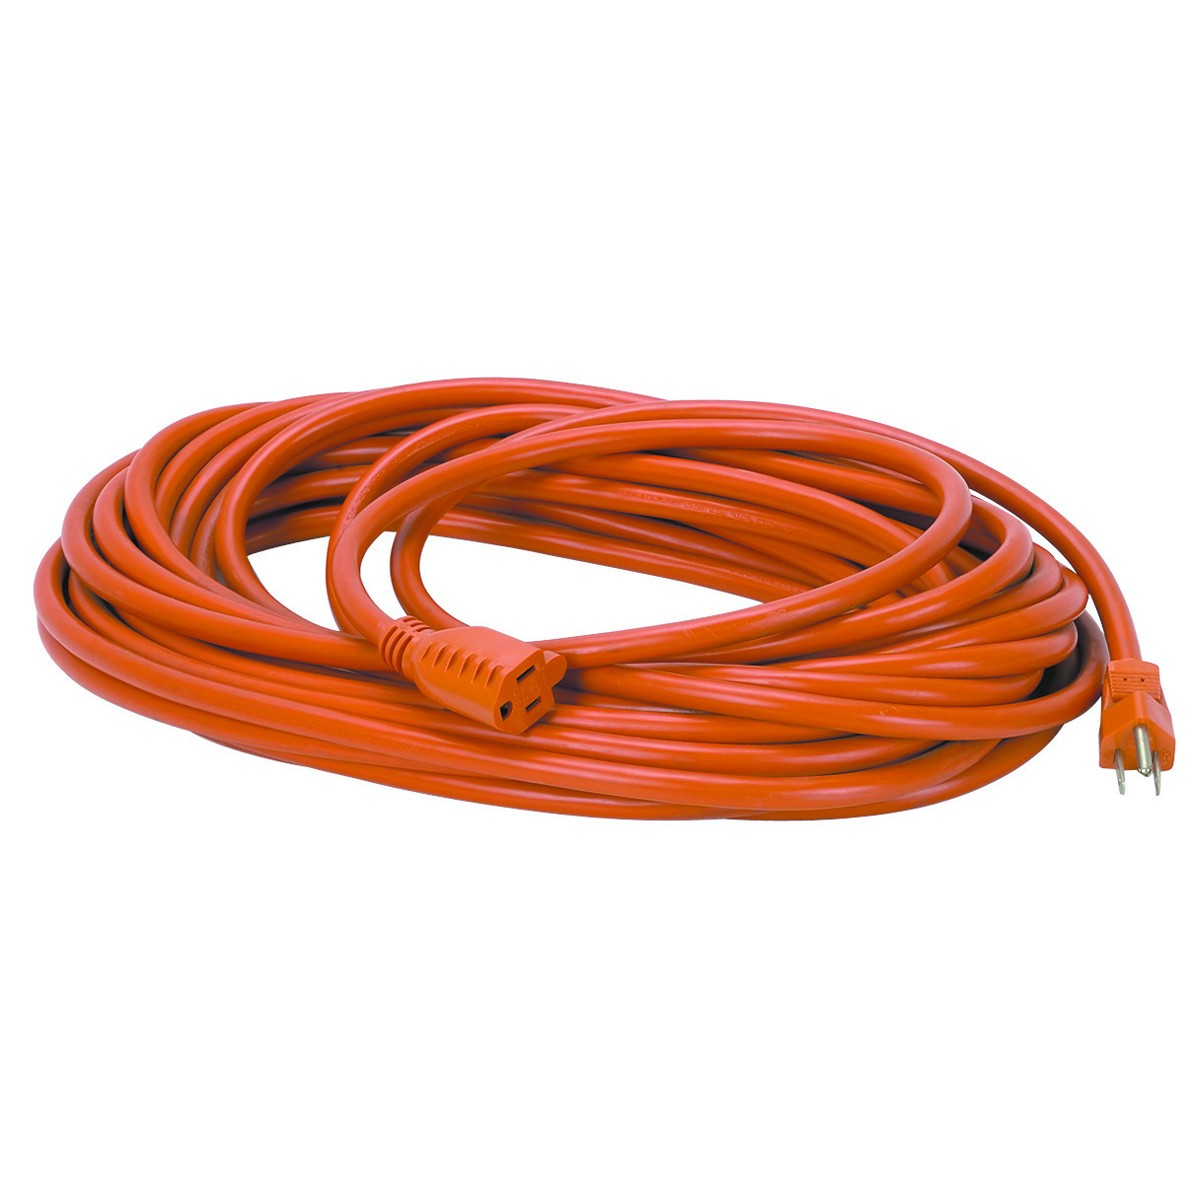Nonrec_Tangler: (1, 266, 1195, 849)
